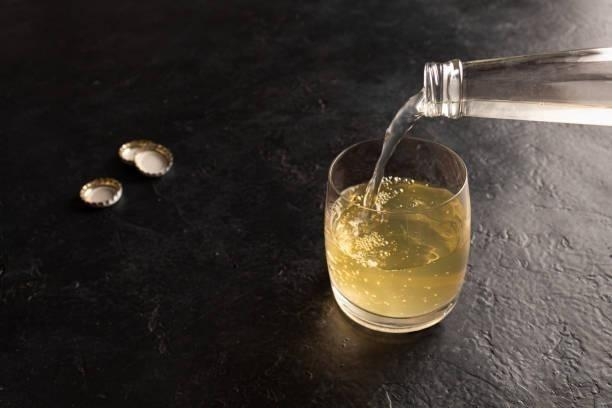glass-normal: (322, 134, 473, 337)
